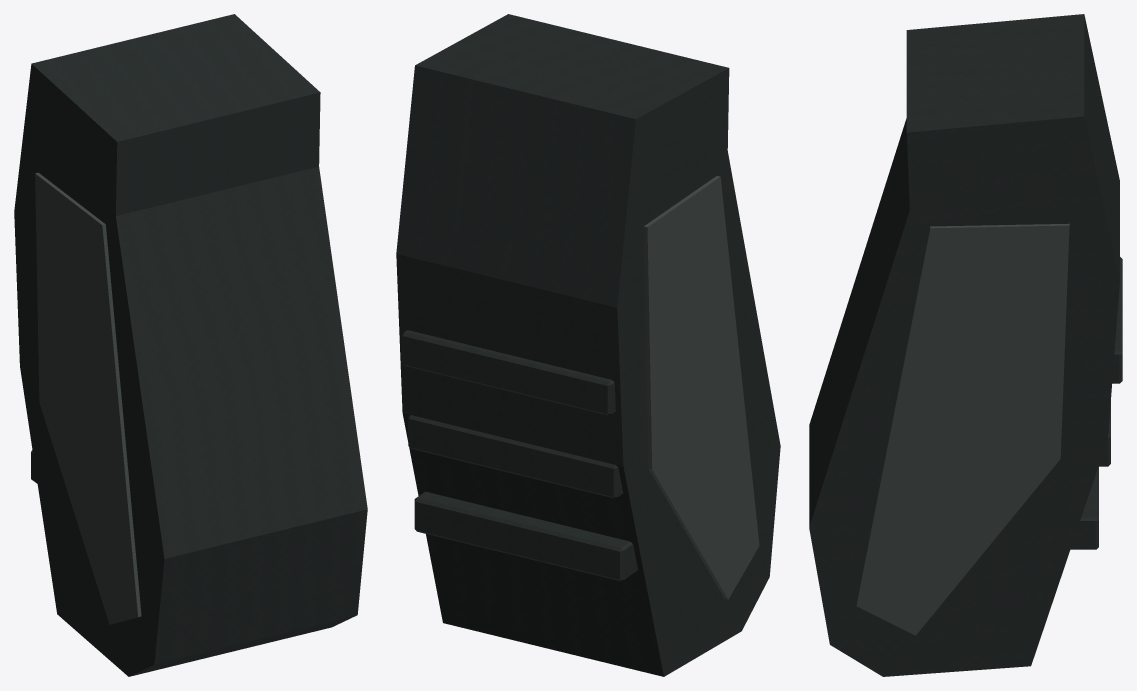
File: grach_grip.glb
The picture shows the model from 3 angles, left to right: view 1: azimuth 30°, elevation 25°; view 2: azimuth 150°, elevation 25°; view 3: azimuth 270°, elevation 25°; orthographic projection. The views are drawn at different scales.
Visible parts, largest first — view 1: grach_grip_item_profile, grach_grip_item_profile.001, grach_grip_molded_panel; view 2: grach_grip_item_profile, grach_grip_item_profile.001, grach_grip_molded_panel; view 3: grach_grip_item_profile.001, grach_grip_item_profile, grach_grip_molded_panel.
Part boxes in pixels (left/top/right/bottom): grach_grip_item_profile: left=16, top=29, right=357, bottom=673; grach_grip_item_profile.001: left=14, top=14, right=367, bottom=676; grach_grip_molded_panel: left=35, top=172, right=141, bottom=624; grach_grip_item_profile: left=402, top=18, right=773, bottom=666; grach_grip_item_profile.001: left=396, top=14, right=780, bottom=676; grach_grip_molded_panel: left=643, top=176, right=759, bottom=599; grach_grip_item_profile.001: left=809, top=14, right=1119, bottom=676; grach_grip_item_profile: left=809, top=19, right=1122, bottom=643; grach_grip_molded_panel: left=856, top=223, right=1069, bottom=635.
Size of the model in its own units: 0.0848 by 0.209 by 0.106.
Materials: 2 (1 with a texture image).
